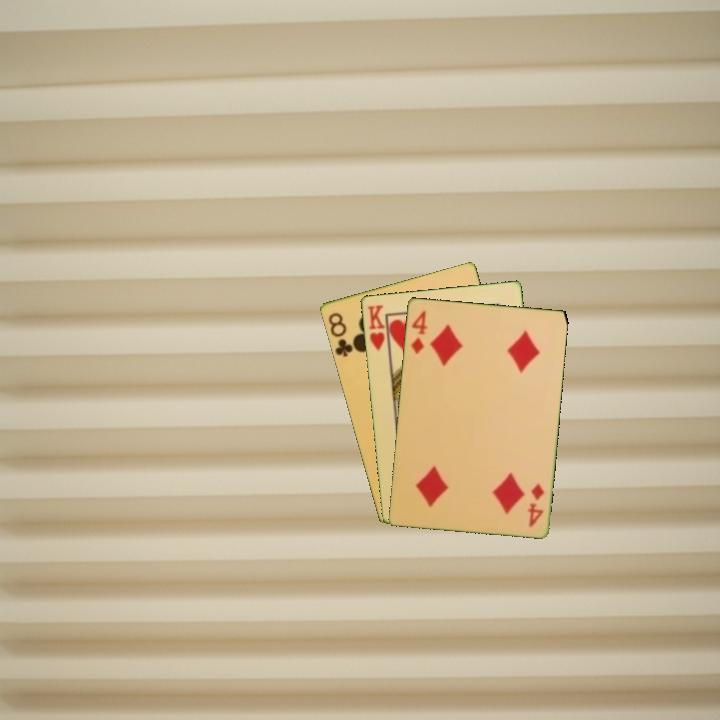4d: (524, 479, 547, 530), (407, 307, 430, 356)
8c: (324, 309, 358, 359)
Kh: (364, 301, 391, 356)
